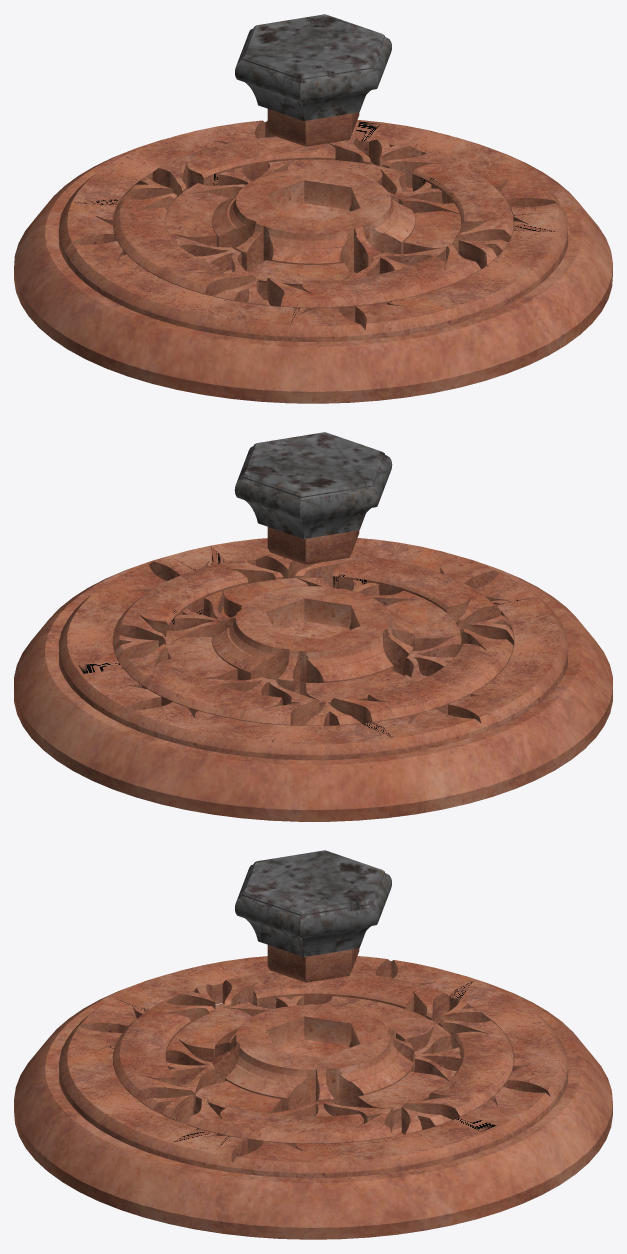
3 views of the same model, one above another, from view 1: azimuth 30°, elevation 25°; view 2: azimuth 150°, elevation 25°; view 3: azimuth 270°, elevation 25° (orthographic).
Visible parts, largest first — view 1: Schloss.005_4, Schloss.002_1, Schloss.003_2, Schloss.001_0, Schluessel.001_5, Schloss.004_3; view 2: Schloss.005_4, Schloss.002_1, Schloss.003_2, Schloss.001_0, Schluessel.001_5, Schloss.004_3; view 3: Schloss.005_4, Schloss.002_1, Schloss.003_2, Schloss.001_0, Schluessel.001_5, Schloss.004_3.
Boxes of the visible parts, box(x1,y1,x2,y2) form: Schloss.005_4: box(14, 122, 612, 403); Schloss.002_1: box(59, 120, 567, 341); Schloss.003_2: box(113, 136, 513, 321); Schloss.001_0: box(211, 168, 415, 276); Schluessel.001_5: box(235, 14, 391, 146); Schloss.004_3: box(165, 159, 461, 304); Schloss.005_4: box(14, 557, 612, 821); Schloss.002_1: box(59, 538, 567, 760); Schloss.003_2: box(113, 554, 513, 725); Schloss.001_0: box(211, 586, 414, 695); Schluessel.001_5: box(234, 432, 392, 564); Schloss.004_3: box(165, 577, 461, 712); Schloss.005_4: box(14, 961, 612, 1239); Schloss.002_1: box(59, 956, 567, 1177); Schloss.003_2: box(113, 972, 513, 1153); Schloss.001_0: box(212, 1004, 413, 1111); Schluessel.001_5: box(235, 850, 391, 982); Schloss.004_3: box(166, 995, 460, 1134).
Bounding box in the file's own units: 106 × 45.14 × 106.
Materials: 2 (2 with a texture image).
